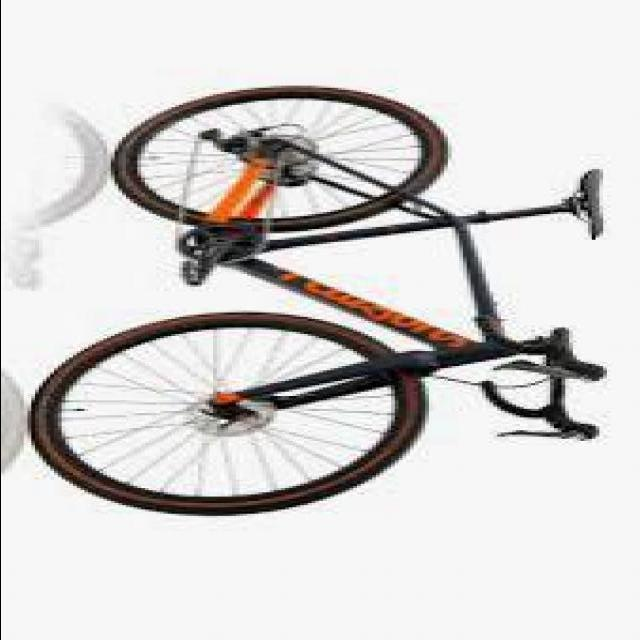bicycle: (55, 93, 615, 509)
